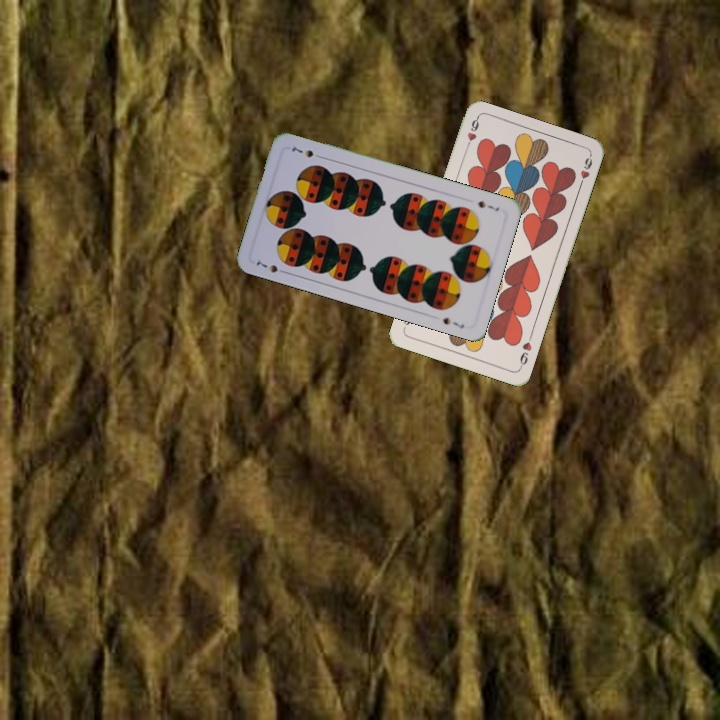H9: (515, 331, 535, 371), (461, 115, 481, 154)
S7: (250, 256, 290, 277), (474, 196, 502, 214)
